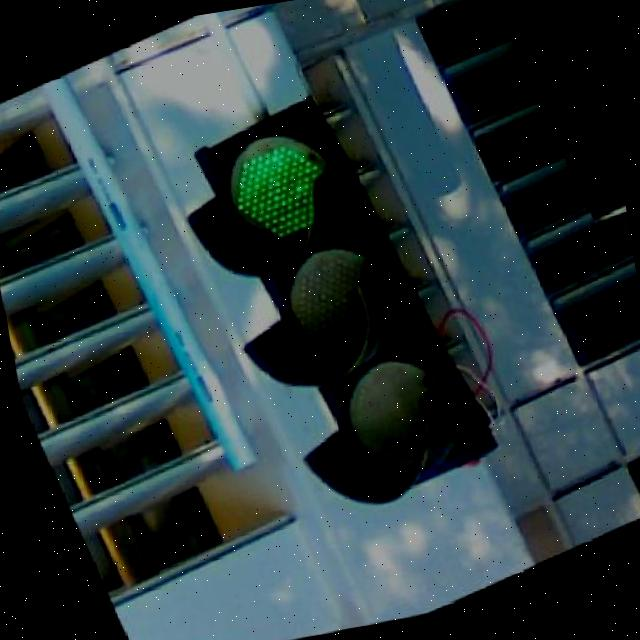green_light: (147, 69, 507, 552)
